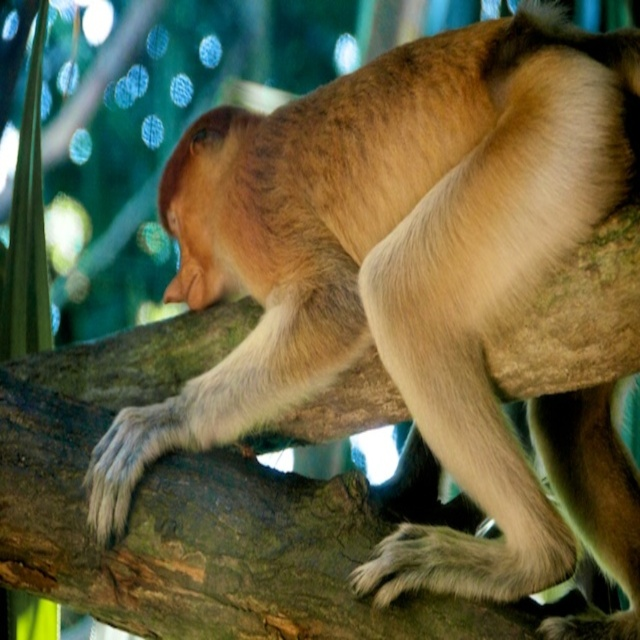Monkey: (141, 15, 633, 640)
